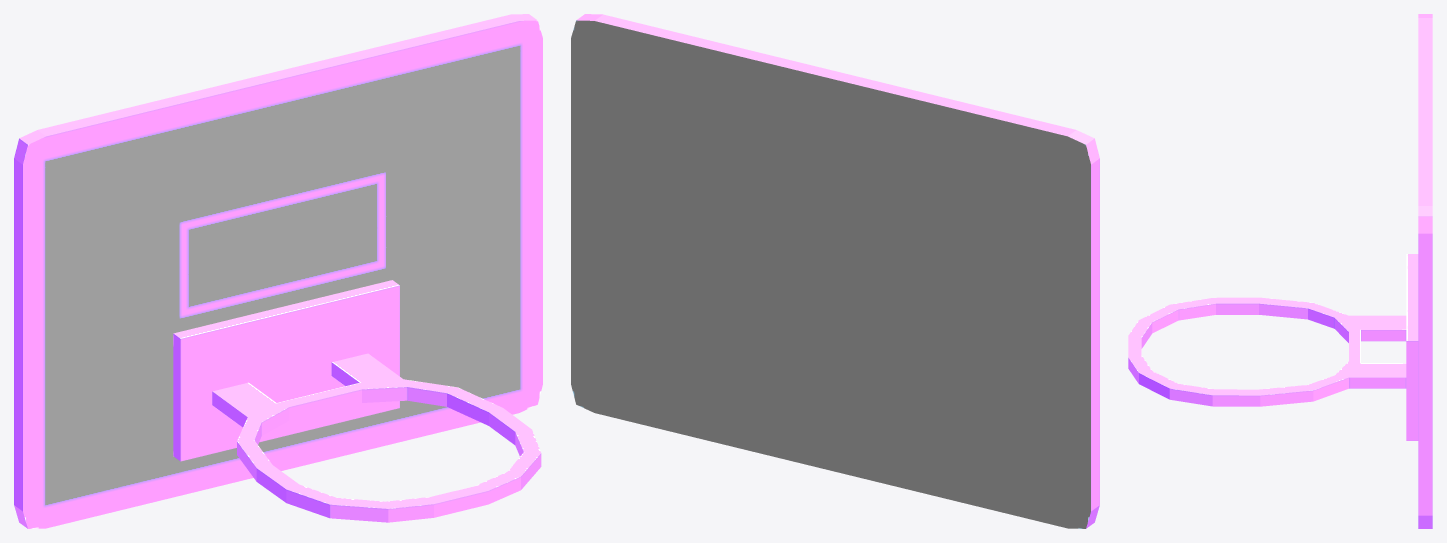
Rendered from hoop.glb.
3 views of the same model, side by side, from view 1: azimuth 30°, elevation 25°; view 2: azimuth 150°, elevation 25°; view 3: azimuth 270°, elevation 25° (orthographic). The views are drawn at different scales.
Parts seen in each view (by area): view 1: plane; view 2: plane; view 3: plane.
Boxes of the visible parts, left/top/right/bottom form: plane: left=14, top=14, right=542, bottom=528; plane: left=571, top=14, right=1099, bottom=528; plane: left=1128, top=14, right=1432, bottom=528.
Bounding box in the file's own units: 1.27 × 0.9186 × 0.7946.
